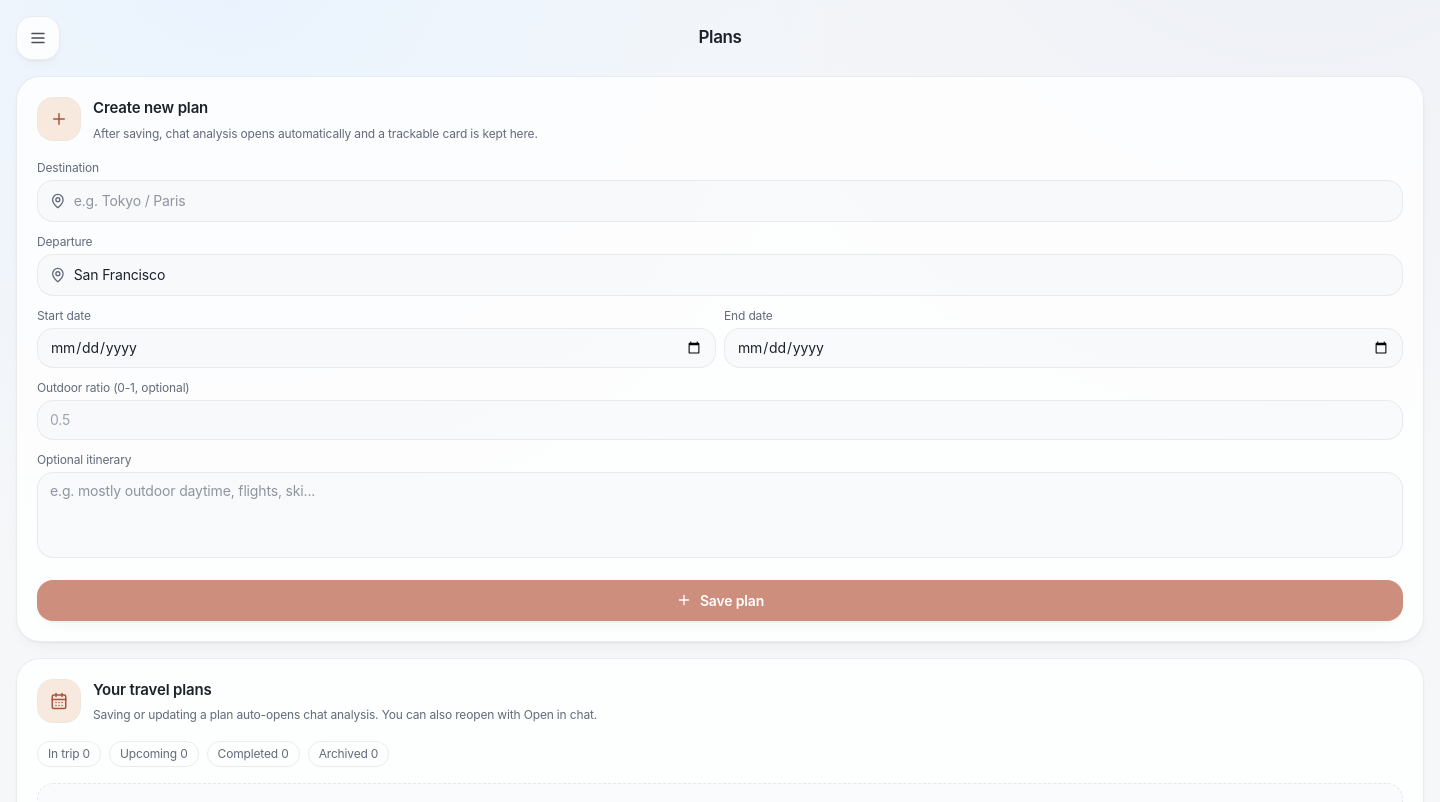
Test: Plans page behavior › shows the real Greenland candidate when destination input is geographically ambiguous
The width and height of the screenshot is (1440, 802).
Check: the text "Create new plan" is shown, box [93,98,208,117]
Type "Greenland" into the field with placeholder "e.g. Tokyo / Paris" at coordinates (732, 200), box [74,188,1390,212]
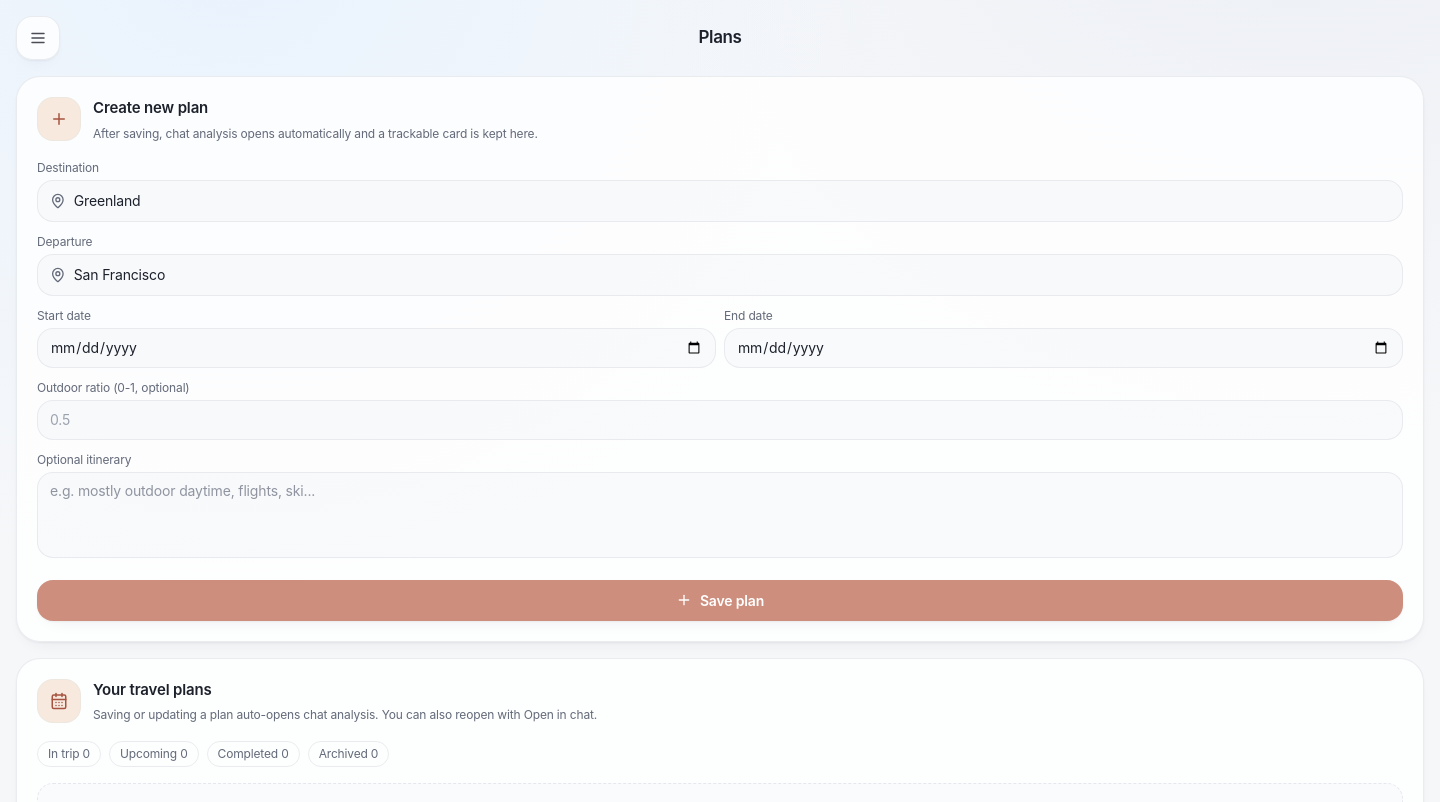
Type "2099-07-01" into the date field labelled "Start date" at coordinates (376, 348), box [37,328,716,368]
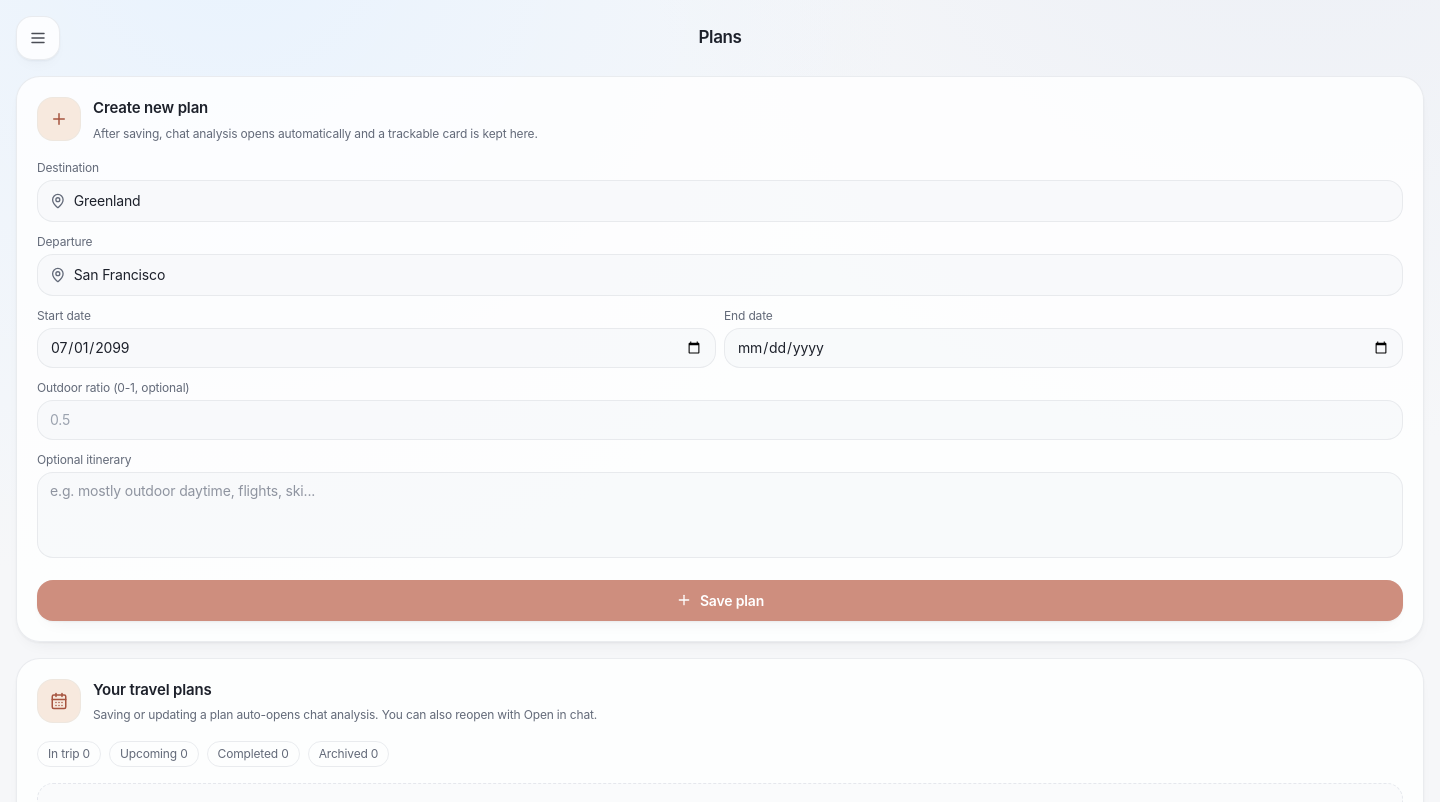
Type "2099-07-05" into the date field labelled "End date" at coordinates (1064, 348), box [724,328,1403,368]
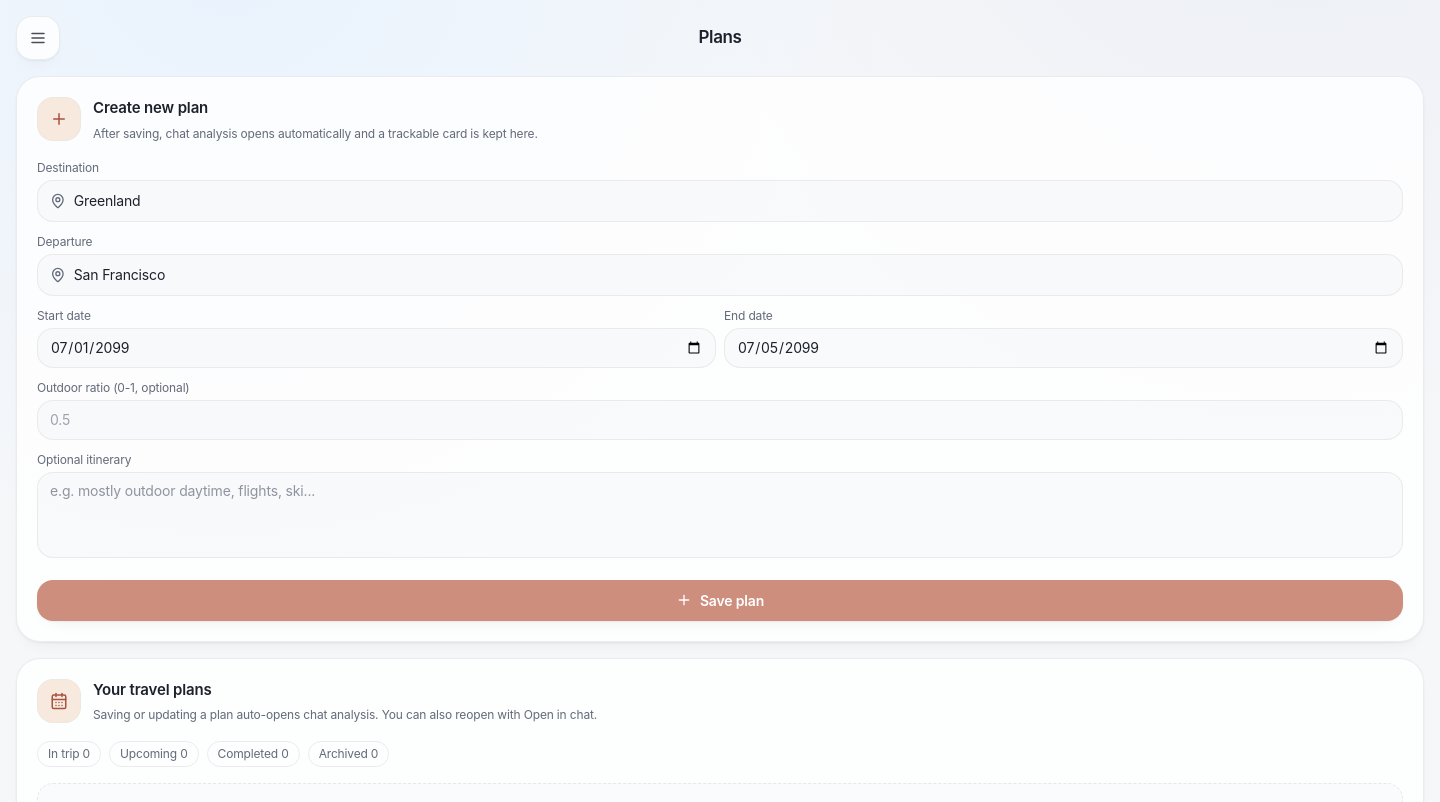
Click the button "Save plan" at coordinates (720, 600), box [37,580,1403,620]
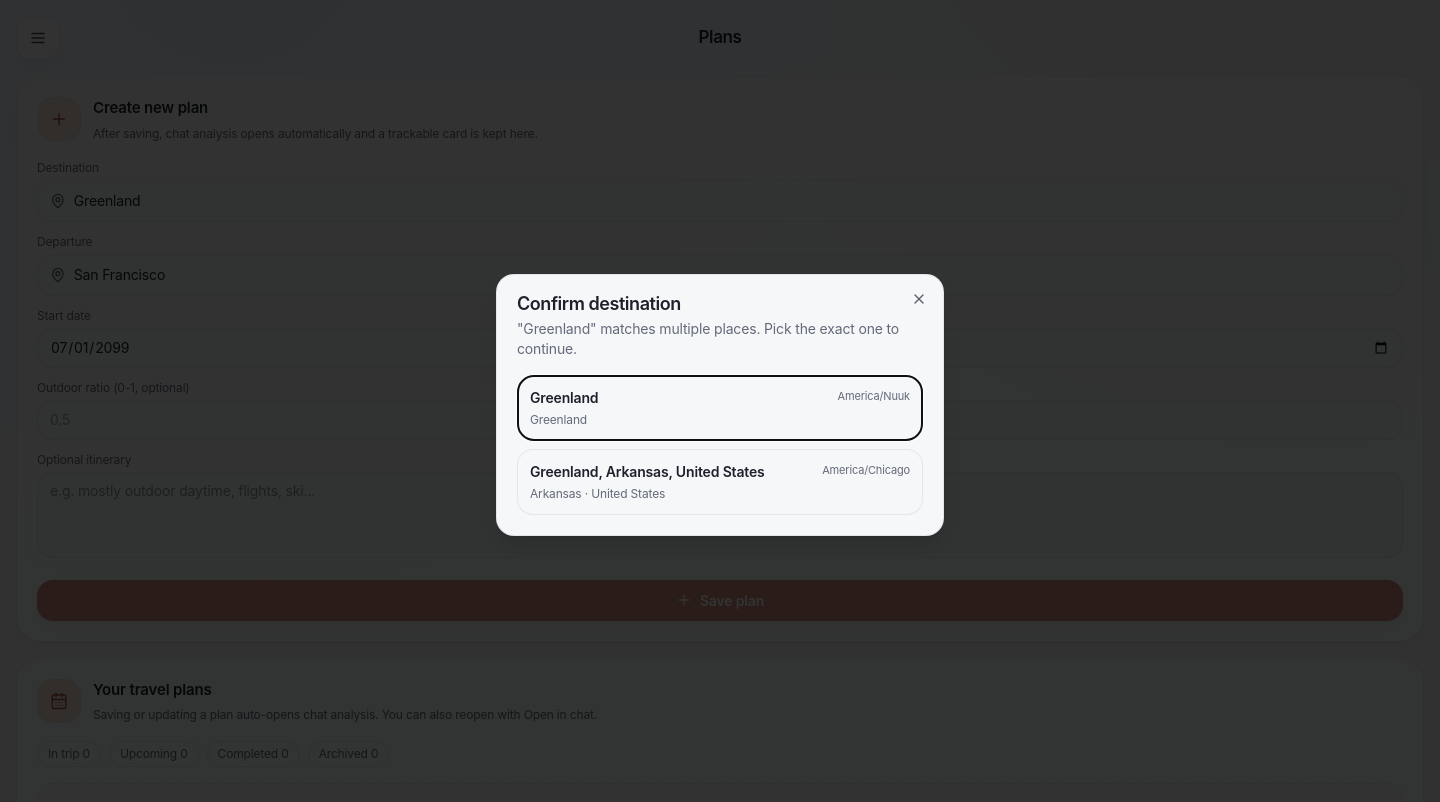
Check: the heading "Confirm destination" is shown, box [517,293,681,314]
Check: the button "Greenland Greenland America/Nuuk" is shown, box [517,375,923,441]
Check: the button "Greenland, Arkansas, United States" is shown, box [517,449,923,515]
